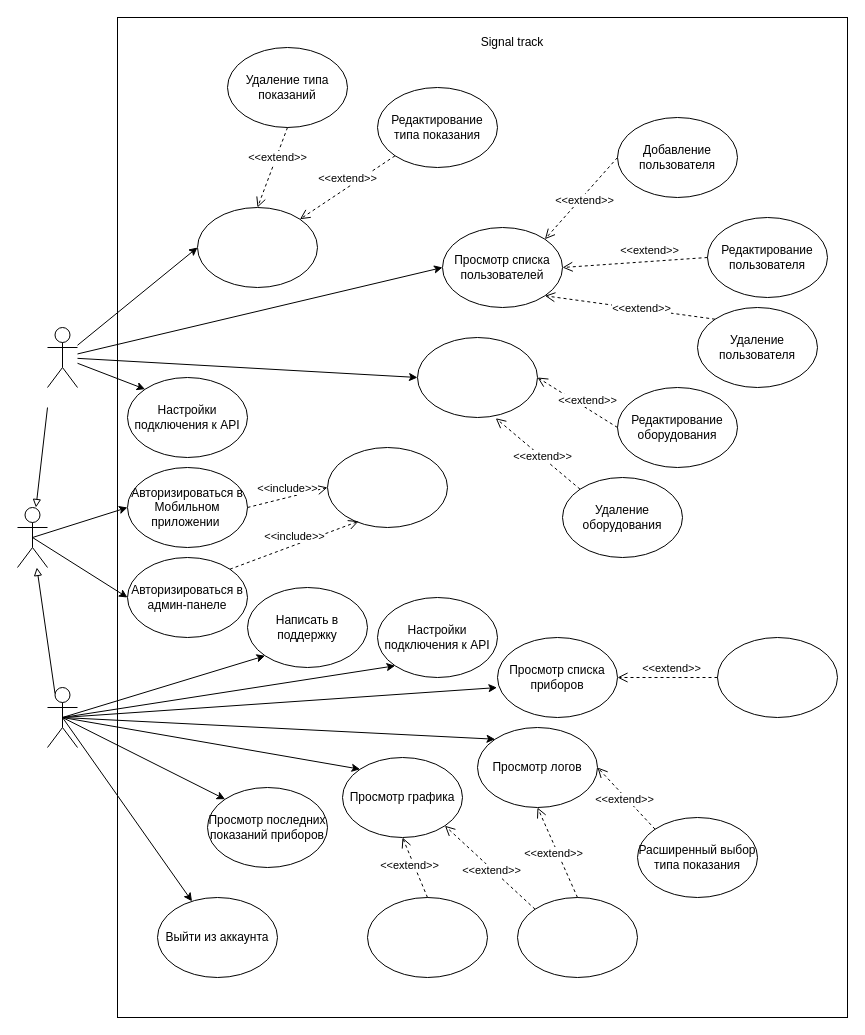
Some shapes in this 865 by 1035 pixel diagram are drawn without their labels. The centre of each missing label's shape, as x and y in pixels:
Администратор: point 62,357
Ввод логина и пароля: point 387,487
Выбор периода: point 577,937
Выбор прибора: point 777,677
Выбор типа показания: point 427,937
Гость: point 32,537
Инженер: point 62,717
Просмотр списка оборудования: point 477,377
Просмотр списка типов показаний оборудования: point 257,247
